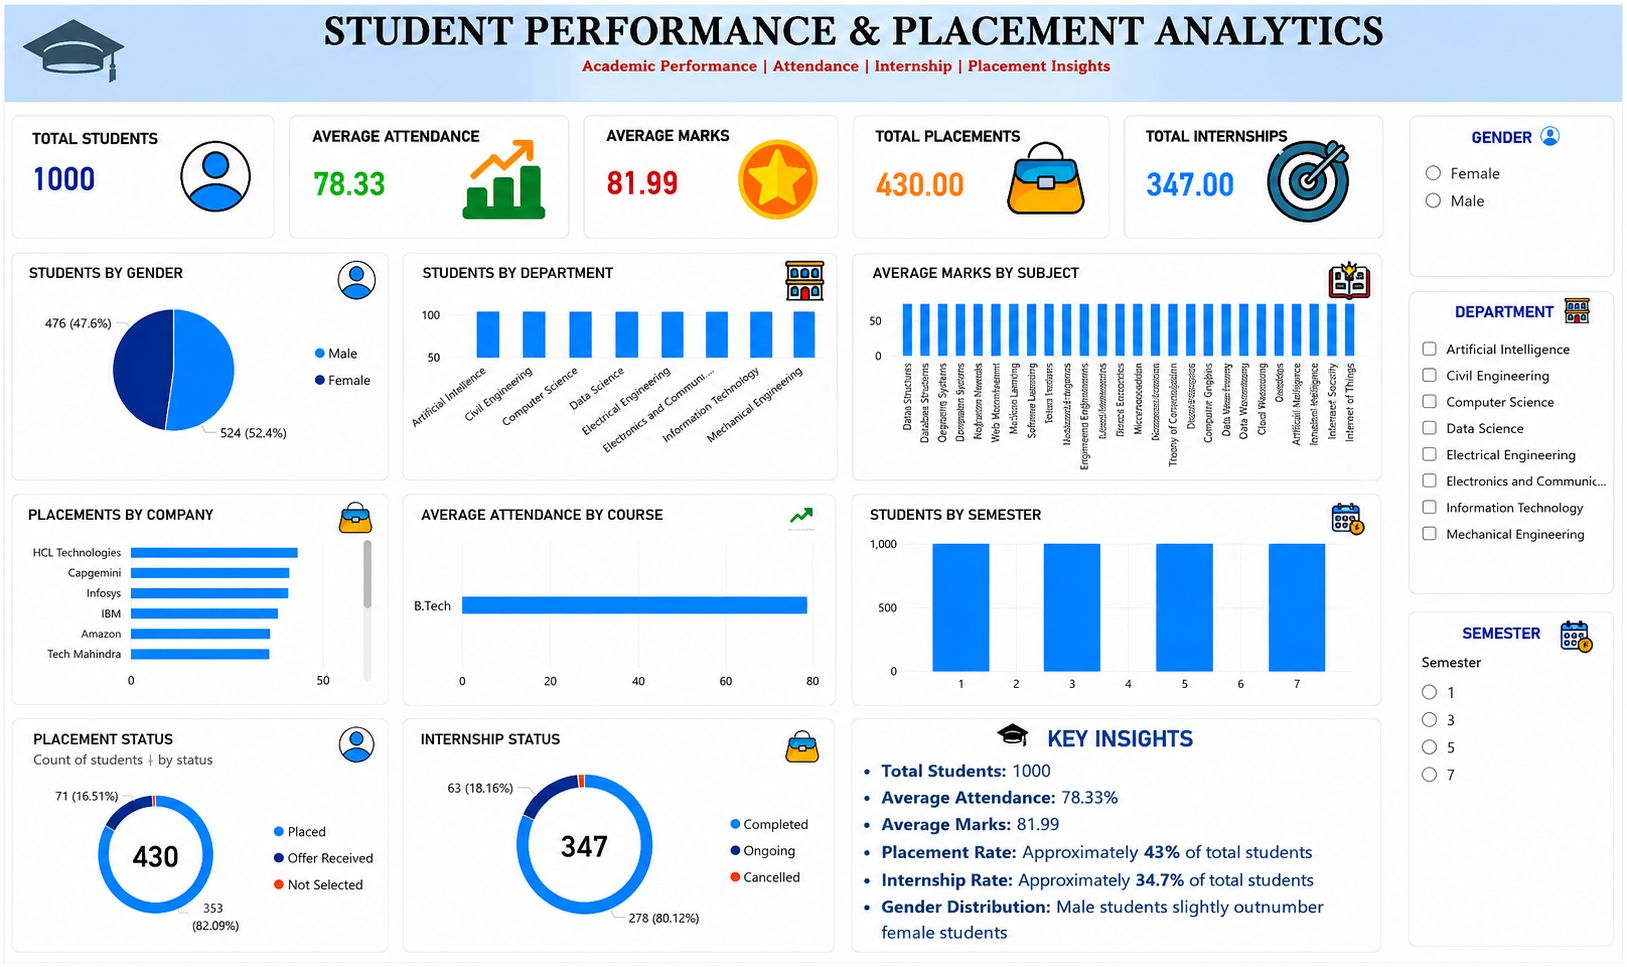

The page's visual inventory and layout, read from the dashboard file:
{"tool":"powerbi","page":{"name":"Page 1","canvas":[1920,1080],"ordinal":0},"visuals":[{"type":"kpi","fields":{"Indicator":["Avg(attendance.attendance_percentage)"],"TrendLine":["attendance.classes_attended"]},"box":[327.5,124.9,318.5,152],"z":0},{"type":"kpi","fields":{"Indicator":["Avg(marks.total_marks)"],"TrendLine":["marks.final_marks"]},"box":[671.4,124.9,291.4,152],"z":1000},{"type":"kpi","title":"TOTAL PLACEMENTS","fields":{"Indicator":["Avg(placements.placement_id)"],"TrendLine":["students.student_id"]},"box":[986.3,126.7,280.5,152],"z":2000},{"type":"kpi","title":"TOTAL INTERNSHIPS","fields":{"Indicator":["Avg(internships.internship_id)"],"TrendLine":["students.student_id"]},"box":[1286.7,126.7,293.2,152],"z":3000},{"type":"pieChart","title":"STUDENT BY GENDER","fields":{"Category":["students.gender"],"Y":["CountNonNull(students.student_id)"]},"box":[0,292.5,440,247.5],"z":4000},{"type":"clusteredColumnChart","title":"STUDENT BY DEPARTMENT","fields":{"Category":["departments.department_name"],"Y":["CountNonNull(students.student_id)"]},"box":[462.5,292.5,500,247.5],"z":5000},{"type":"clusteredBarChart","title":"PLACEMENT BY COMPANY","fields":{"Category":["placements.company_name"],"Y":["CountNonNull(placements.placement_id)"]},"box":[0,560,440,247.5],"z":6000},{"type":"donutChart","title":"INTERNSHIP STATUS","fields":{"Category":["internships.status"],"Y":["CountNonNull(internships.internship_id)"]},"box":[462.5,827.5,502.5,252.5],"z":7000},{"type":"clusteredColumnChart","title":"AVERAGE MARKS BY SUBJECT","fields":{"Category":["subjects.subject_name"],"Y":["Avg(marks.total_marks)"]},"box":[987.5,292.5,595,247.5],"z":8000},{"type":"clusteredBarChart","title":"AVERAGE ATTENDANCE BY COURSE","fields":{"Y":["Avg(attendance.attendance_percentage)"],"Category":["students.course"]},"box":[462.5,560,502.5,247.5],"z":9000},{"type":"clusteredColumnChart","title":"STUDENT BY SEMESTER","fields":{"Y":["CountNonNull(students.student_id)"],"Category":["subjects.semester"]},"box":[987.5,560,595,247.5],"z":10000},{"type":"donutChart","title":"PLACEMENT STATUS","fields":{"Category":["placements.status"],"Y":["CountNonNull(placements.student_id)"]},"box":[0,827.5,440,252.5],"z":11000},{"type":"listSlicer","title":"DEPARTMENT","fields":{"Values":["departments.department_name"]},"box":[1625.1,371,267.8,338.4],"z":12000},{"type":"listSlicer","fields":{"Values":["students.gender"]},"box":[1625.1,139.3,267.8,202.7],"z":13000},{"type":"listSlicer","title":"SEMESTER","fields":{"Values":["students.semester"]},"box":[1625.1,732.9,267.8,302.2],"z":14000},{"type":"textbox","box":[0,0,1920.1,124],"z":15000},{"type":"image","box":[0,0,168.3,124.9],"z":16000},{"type":"kpi","title":"TOTAL STUDENT","fields":{"Indicator":["Count(students.student_id)"],"TrendLine":["marks.student_id"]},"box":[0,124.9,304,152],"z":17000},{"type":"image","box":[190,157.4,101.3,85.1],"z":18000},{"type":"image","box":[515.8,148.4,108.6,106.8],"z":19000},{"type":"image","box":[816.2,155.6,143,95.9],"z":20000},{"type":"image","box":[1123.8,153.8,117.6,94.1],"z":21000},{"type":"image","box":[1420.6,157.4,126.7,97.7],"z":22000},{"type":"image","box":[357,302,85,50],"z":23000},{"type":"image","box":[377,572,45,41],"z":24000},{"type":"image","box":[905,572,45,41],"z":25000},{"type":"image","box":[1505,302,85,50],"z":26000},{"type":"image","box":[875,302,85,50],"z":27000},{"type":"image","box":[1797,154,28,22],"z":28000},{"type":"image","box":[1525,572,45,41],"z":28001},{"type":"image","box":[376.4,842.7,45,41],"z":28002},{"type":"image","box":[905.5,843.6,45,41],"z":28003},{"type":"image","box":[1820,379.1,41.8,30.9],"z":28004},{"type":"image","box":[1809.1,739.1,63.6,40.9],"z":28005},{"type":"textbox","box":[988,828,595,252],"z":28006},{"type":"image","box":[1126.7,828.3,56.7,35],"z":28007}]}

Visuals, with their boxes on the page's 1920x1080 design canvas (x1, y1, x2, y2). These are canvas units, not pixel positions in the 1627x967 screenshot, which may show the page scaled, cropped or inside an application window:
kpi - Avg(attendance.attendance_percentage) x attendance.classes_attended: [328,125,646,277]
kpi - Avg(marks.total_marks) x marks.final_marks: [671,125,963,277]
"TOTAL PLACEMENTS" kpi: [986,127,1267,279]
"TOTAL INTERNSHIPS" kpi: [1287,127,1580,279]
"STUDENT BY GENDER" pieChart: [0,292,440,540]
"STUDENT BY DEPARTMENT" clusteredColumnChart: [462,292,962,540]
"PLACEMENT BY COMPANY" clusteredBarChart: [0,560,440,808]
"INTERNSHIP STATUS" donutChart: [462,828,965,1080]
"AVERAGE MARKS BY SUBJECT" clusteredColumnChart: [988,292,1582,540]
"AVERAGE ATTENDANCE BY COURSE" clusteredBarChart: [462,560,965,808]
"STUDENT BY SEMESTER" clusteredColumnChart: [988,560,1582,808]
"PLACEMENT STATUS" donutChart: [0,828,440,1080]
"DEPARTMENT" listSlicer: [1625,371,1893,709]
listSlicer - students.gender: [1625,139,1893,342]
"SEMESTER" listSlicer: [1625,733,1893,1035]
textbox: [0,0,1920,124]
image: [0,0,168,125]
"TOTAL STUDENT" kpi: [0,125,304,277]
image: [190,157,291,242]
image: [516,148,624,255]
image: [816,156,959,252]
image: [1124,154,1241,248]
image: [1421,157,1547,255]
image: [357,302,442,352]
image: [377,572,422,613]
image: [905,572,950,613]
image: [1505,302,1590,352]
image: [875,302,960,352]
image: [1797,154,1825,176]
image: [1525,572,1570,613]
image: [376,843,421,884]
image: [906,844,950,885]
image: [1820,379,1862,410]
image: [1809,739,1873,780]
textbox: [988,828,1583,1080]
image: [1127,828,1183,863]
